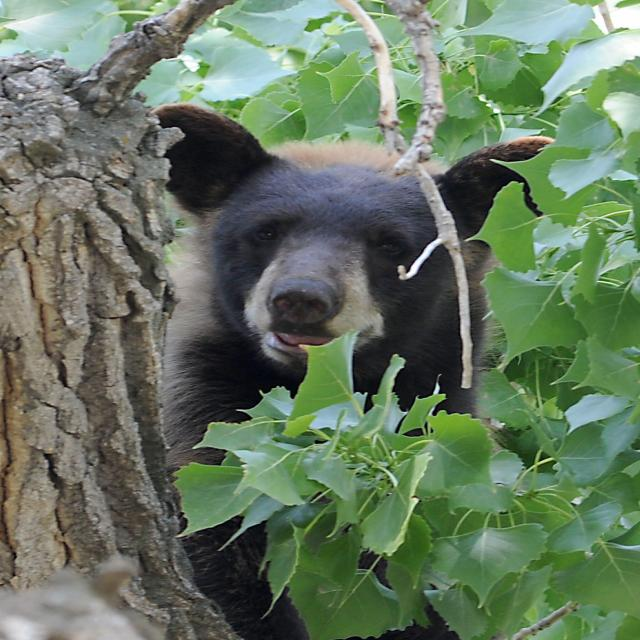Bear: (156, 105, 551, 640)
